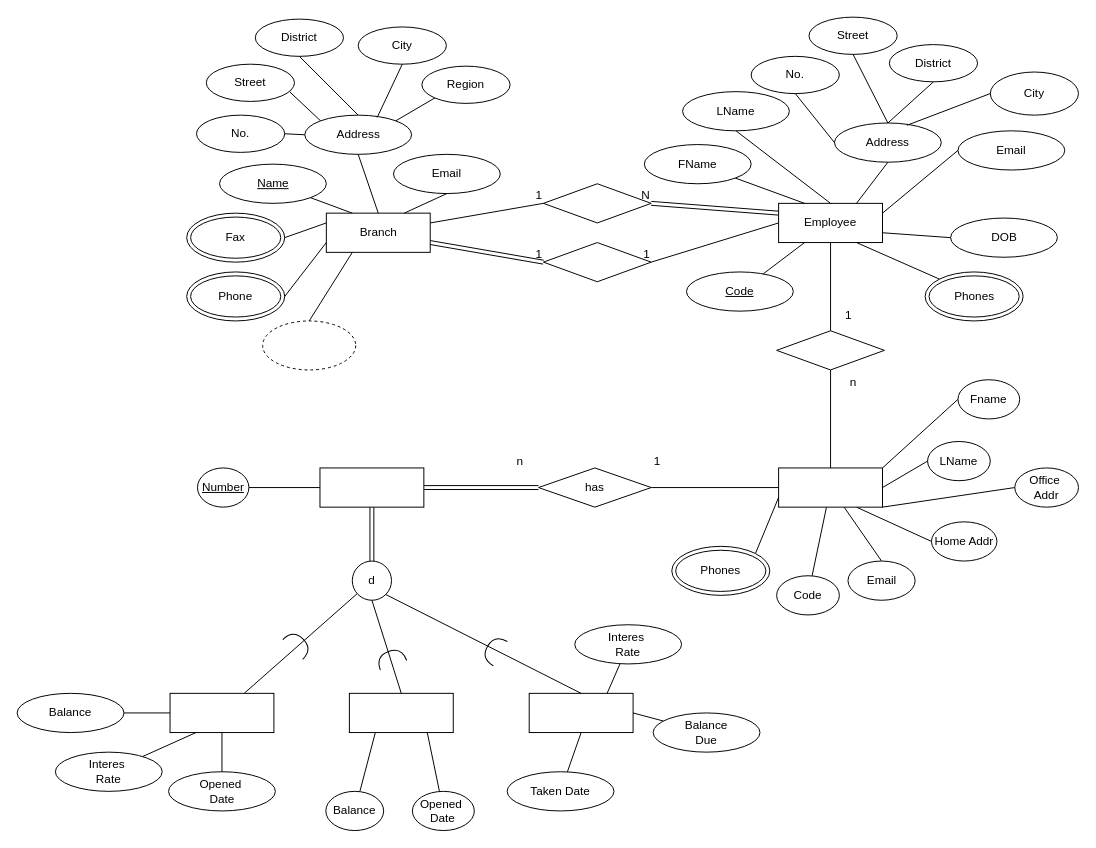
Image size: 1096x848. Some labels were removed from this diagram. The centre of each missing label's shape, as x and y in pixels:
"Account" goes at (371,487).
"Checking account" goes at (400,712).
"Customer" goes at (830,487).
"Loan" goes at (580,712).
"manage" goes at (596,262).
"Nump. of Emp" goes at (309,345).
"Saving account" goes at (221,712).
"serve" goes at (830,350).
"work for" goes at (596,203).
